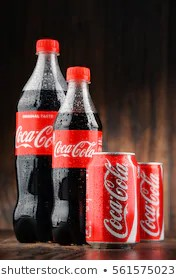coke-bottle-2l: (11, 36, 67, 244)
coke-bottle-700ml: (52, 67, 102, 246)
coke-can: (84, 152, 141, 250), (139, 161, 164, 243)
